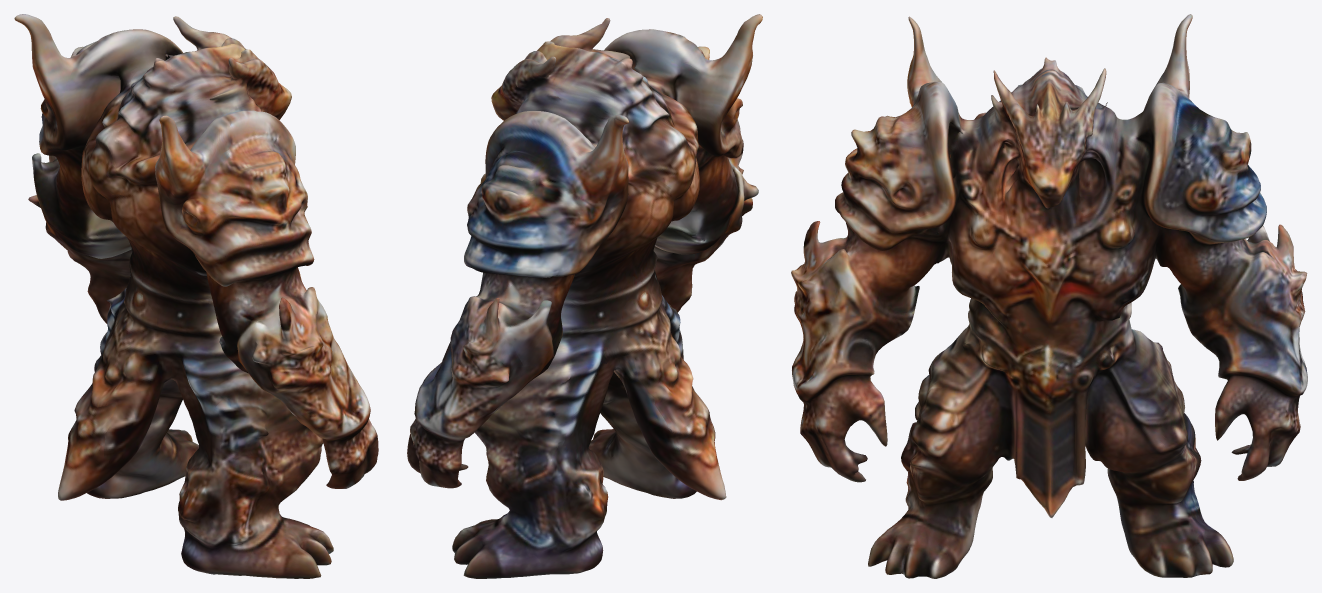
The model's file is boryx_zenith_beast.glb.
3 renders of one model, left to right at view 1: azimuth 30°, elevation 25°; view 2: azimuth 150°, elevation 25°; view 3: azimuth 270°, elevation 25°, orthographic.
Parts seen in each view (by area): view 1: tripo_node_17625a93-3656-48e7-92dd-eb0b4ab771a7; view 2: tripo_node_17625a93-3656-48e7-92dd-eb0b4ab771a7; view 3: tripo_node_17625a93-3656-48e7-92dd-eb0b4ab771a7.
Part boxes in pixels (bbox=[...]): tripo_node_17625a93-3656-48e7-92dd-eb0b4ab771a7: bbox=[14, 14, 378, 578]; tripo_node_17625a93-3656-48e7-92dd-eb0b4ab771a7: bbox=[407, 14, 762, 578]; tripo_node_17625a93-3656-48e7-92dd-eb0b4ab771a7: bbox=[791, 14, 1307, 578].
Bounding box in the file's own units: 0.3693 × 0.7308 × 0.7046.
Materials: 1 (1 with a texture image).
